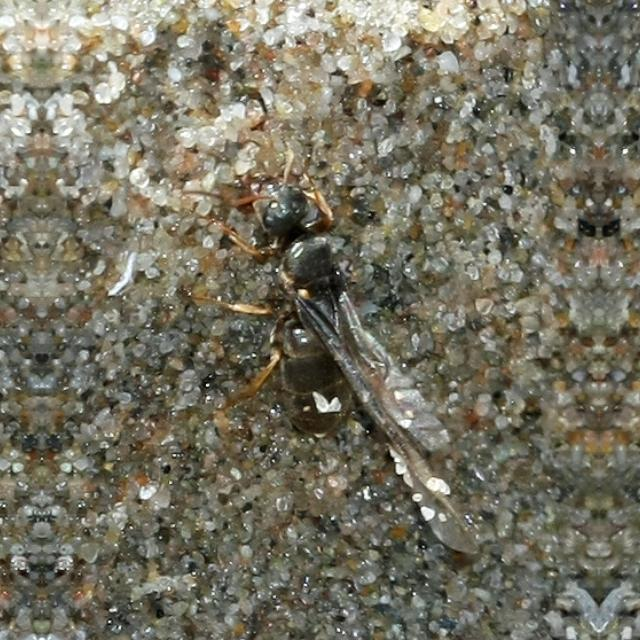Lasius: (218, 165, 372, 421)
